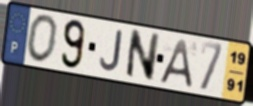7: (199, 39, 224, 95)
9: (59, 18, 89, 71)
A: (157, 38, 194, 90)
J: (98, 29, 124, 74)
N: (124, 28, 162, 84)
O: (26, 13, 60, 65)
